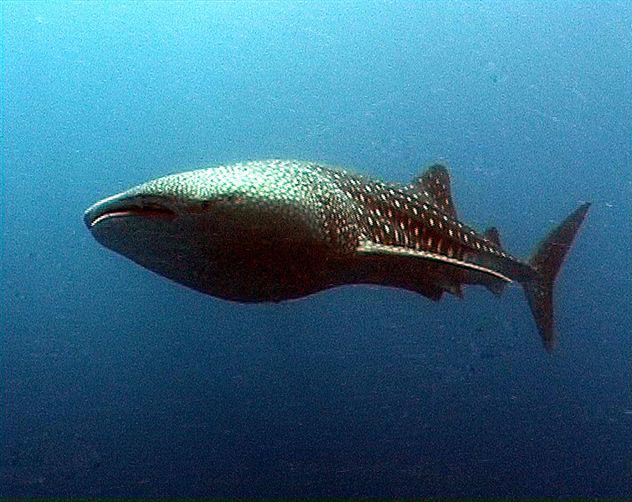Rhincodon_typusw: (47, 120, 607, 366)
